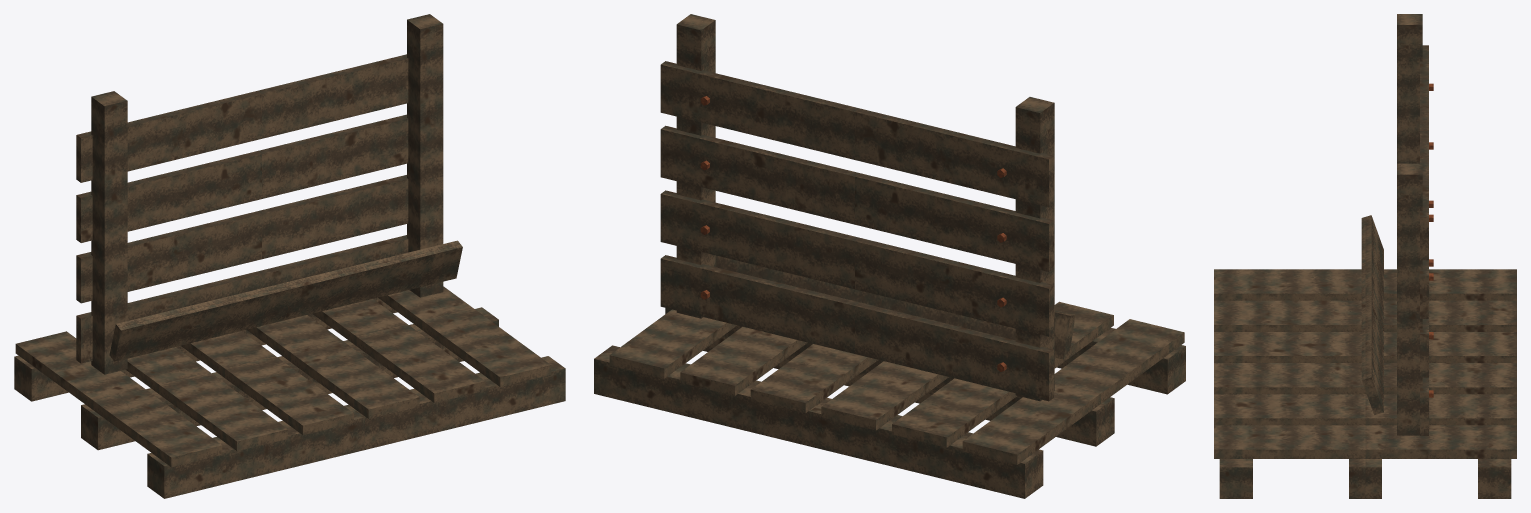
Rendered from prop_plank_wood.glb.
3 renders of one model, left to right at view 1: azimuth 30°, elevation 25°; view 2: azimuth 150°, elevation 25°; view 3: azimuth 270°, elevation 25°, orthographic. The views are drawn at different scales.
Parts seen in each view (by area): view 1: plank_wood; view 2: plank_wood; view 3: plank_wood.
Boxes of the visible parts, x1=… form: plank_wood: x1=14, y1=14, x2=565, y2=498; plank_wood: x1=594, y1=14, x2=1185, y2=498; plank_wood: x1=1214, y1=14, x2=1516, y2=498.
Size of the model in its own units: 1.22 by 0.925 by 0.82.
Materials: 2 (2 with a texture image).
